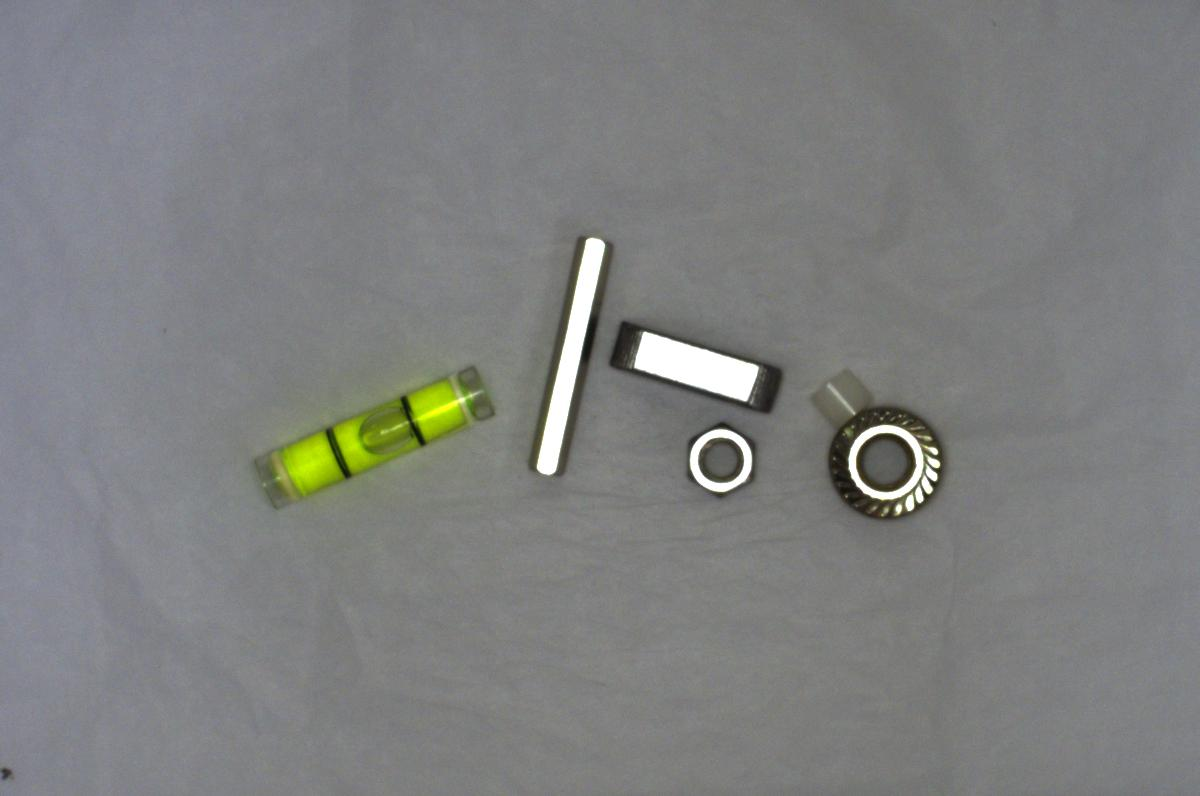Double hexagonal column: (524, 222, 612, 487)
Flange nut: (819, 401, 944, 526)
Hexagon nut: (684, 417, 764, 499)
Horizontal bubble: (244, 349, 498, 500)
Keybar: (606, 315, 788, 412)
Plastic cushion pillar: (805, 365, 876, 427)
